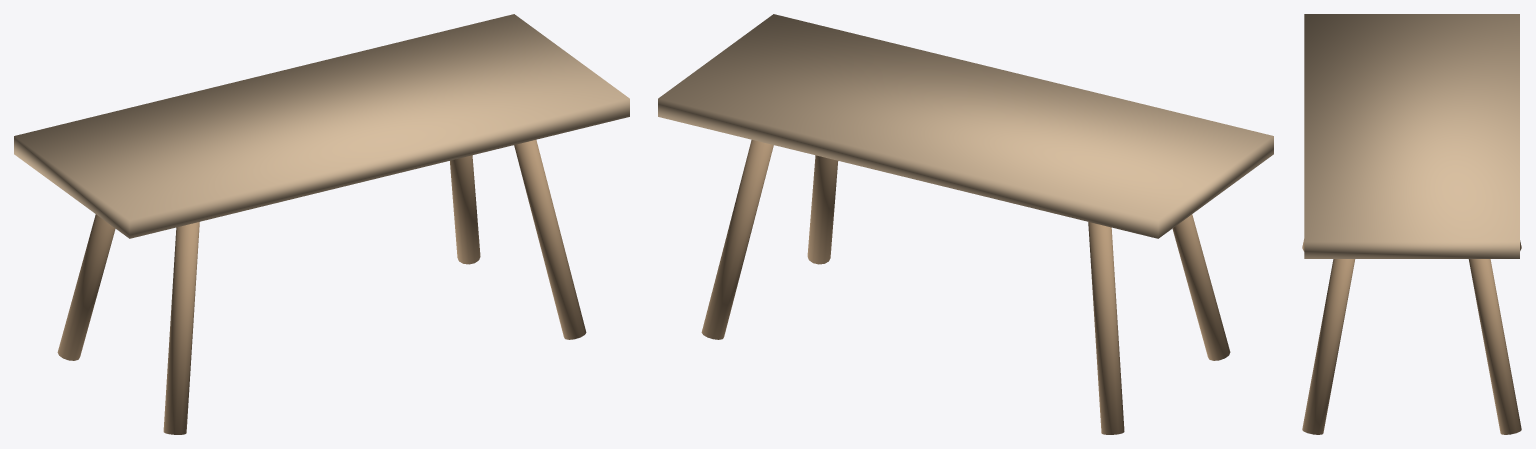
File: bench_short.glb
3 renders of one model, left to right at view 1: azimuth 30°, elevation 25°; view 2: azimuth 150°, elevation 25°; view 3: azimuth 270°, elevation 25°, orthographic. The views are drawn at different scales.
Visible parts, largest first — view 1: Node; view 2: Node; view 3: Node.
Boxes of the visible parts, box(x1,y1,x2,y2) form: Node: box(14, 14, 629, 434); Node: box(658, 14, 1273, 434); Node: box(1302, 14, 1521, 434).
Bounding box in the file's own units: 1 × 0.4397 × 0.4072.
